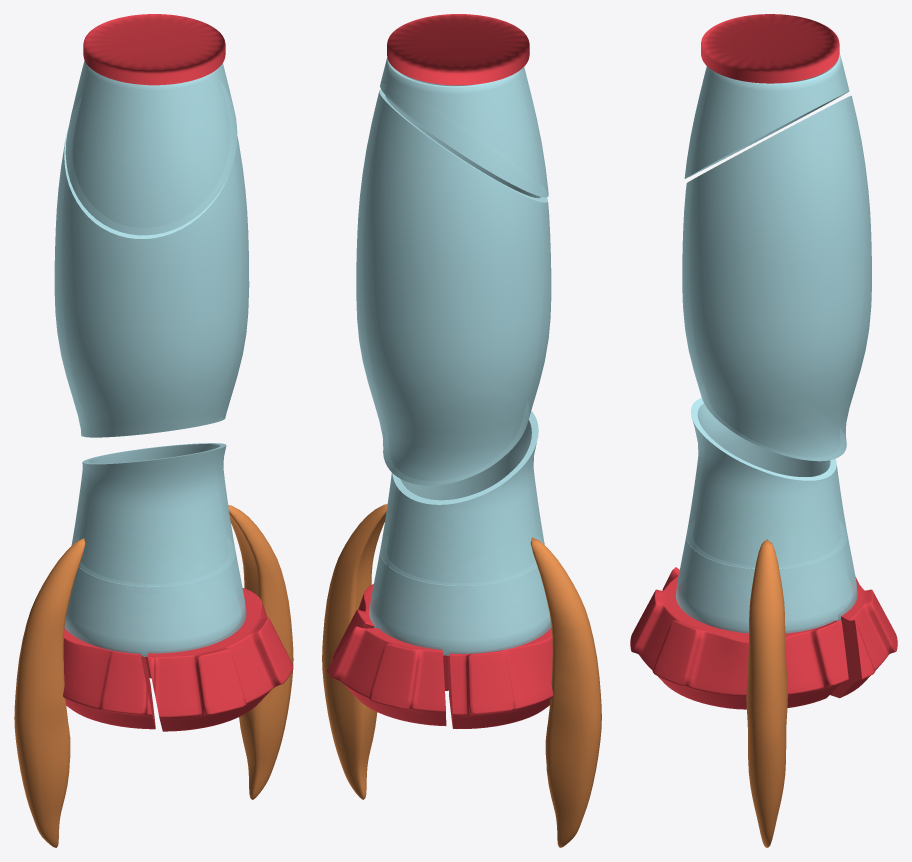
Rendered from MEDIUM_Blender_fixed.fbx.
The picture shows the model from 3 angles, left to right: view 1: azimuth 30°, elevation 25°; view 2: azimuth 150°, elevation 25°; view 3: azimuth 270°, elevation 25°; orthographic projection. The views are drawn at different scales.
Parts seen in each view (by area): view 1: Middle_glass, top_glass, bottom_glass_1, stands_R, bottom_glass_2, Base_1, stands_L, base_2; view 2: Middle_glass, top_glass, bottom_glass_1, stands_R, bottom_glass_2, stands_L, base_3, base_2, Base_1; view 3: Middle_glass, bottom_glass_1, top_glass, Base_1, stands_L, bottom_glass_2, base_3.
Part boxes in pixels (x1,y1,x2,y2): Middle_glass: (54,126,249,437); top_glass: (65,14,237,235); bottom_glass_1: (71,443,235,586); stands_R: (14,538,85,847); bottom_glass_2: (64,552,246,656); Base_1: (147,588,293,731); stands_L: (228,505,293,799); base_2: (63,628,155,729); Middle_glass: (356,89,551,485); top_glass: (380,14,548,197); bottom_glass_1: (380,411,544,585); stands_R: (530,537,601,847); bottom_glass_2: (369,550,551,655); stands_L: (322,504,387,799); base_3: (326,626,446,726); base_2: (447,627,553,728); Base_1: (332,584,448,690); Middle_glass: (682,95,871,461); bottom_glass_1: (686,398,847,568); top_glass: (684,14,849,178); Base_1: (630,567,848,709); stands_L: (746,539,787,847); bottom_glass_2: (676,534,857,633); base_3: (830,581,897,698).
Bounding box in the file's own units: 158 × 430 × 137.
